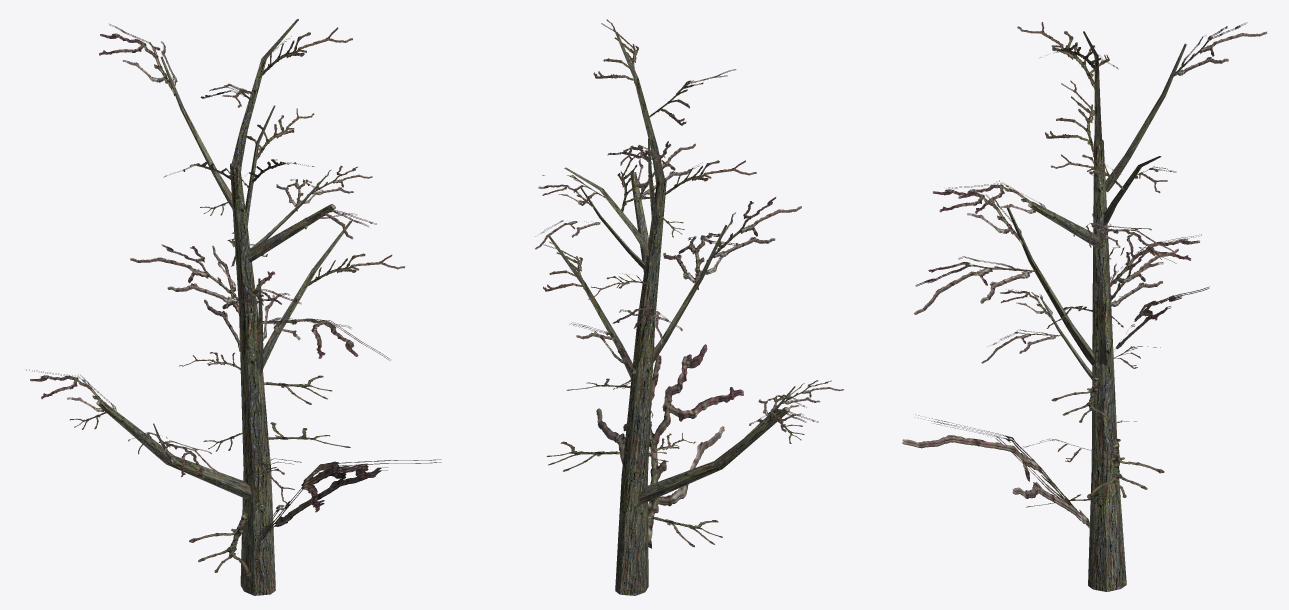
The model's file is snag-3.glb.
3 renders of one model, left to right at view 1: azimuth 30°, elevation 25°; view 2: azimuth 150°, elevation 25°; view 3: azimuth 270°, elevation 25°, orthographic. The views are drawn at different scales.
Visible parts, largest first — view 1: snag-3; view 2: snag-3; view 3: snag-3.
Part boxes in pixels (bbox=[...]): snag-3: bbox=[26, 19, 441, 595]; snag-3: bbox=[535, 19, 843, 595]; snag-3: bbox=[902, 22, 1267, 591].
Bounding box in the file's own units: 10.48 × 15.36 × 9.8.
1 material, 1 textured.
